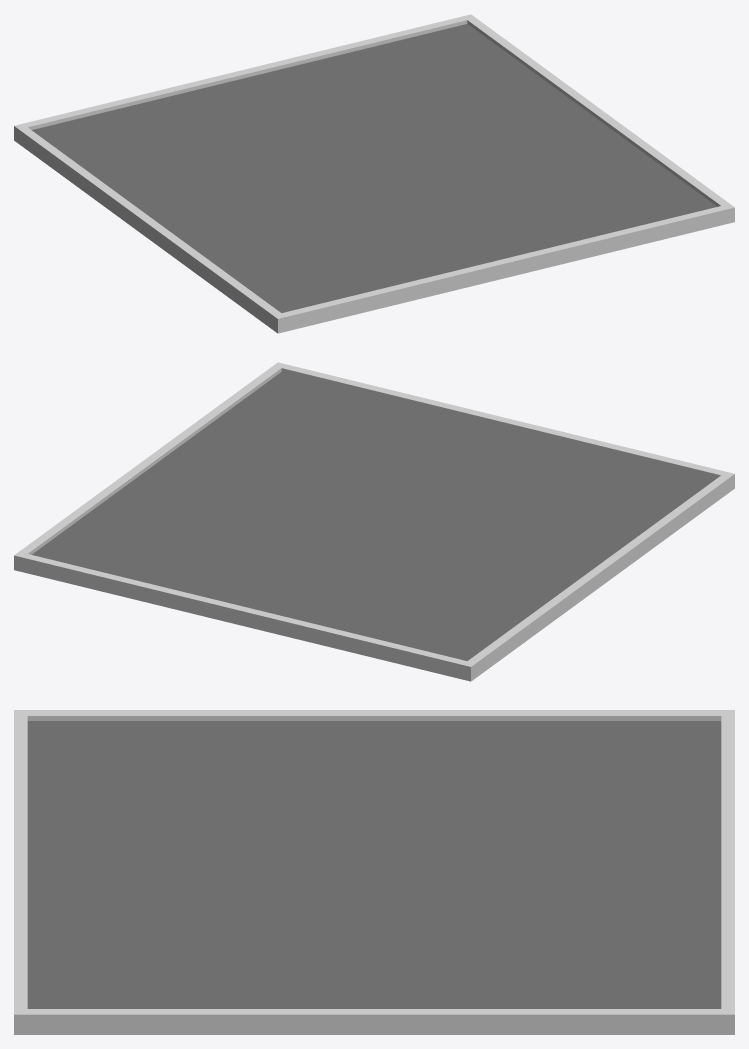
File: floor_4_world_ap_0_lev1.glb
The picture shows the model from 3 angles, top to bottom: view 1: azimuth 30°, elevation 25°; view 2: azimuth 150°, elevation 25°; view 3: azimuth 270°, elevation 25°; orthographic projection. The views are drawn at different scales.
Visible parts, largest first — view 1: floor_4_world_ap_0_lev1; view 2: floor_4_world_ap_0_lev1; view 3: floor_4_world_ap_0_lev1.
Boxes of the visible parts, <box> form: floor_4_world_ap_0_lev1: <box>14,14,734,333</box>; floor_4_world_ap_0_lev1: <box>14,362,734,681</box>; floor_4_world_ap_0_lev1: <box>14,710,734,1034</box>.
Bounding box in the file's own units: 5.57 × 0.1708 × 5.57.
1 material, 1 textured.
